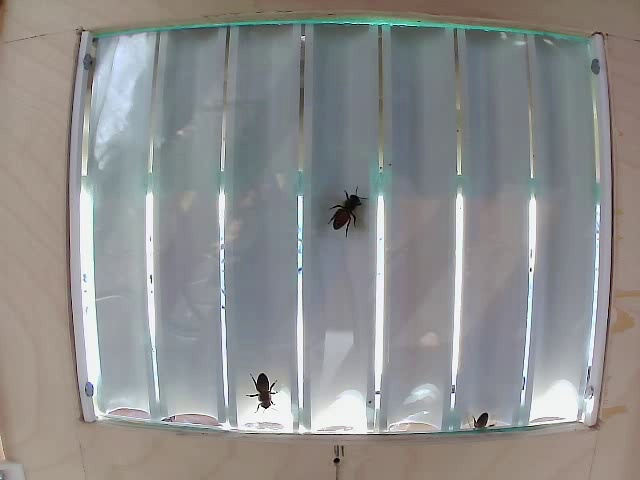bee: (327, 193, 374, 250), (248, 367, 278, 403)
